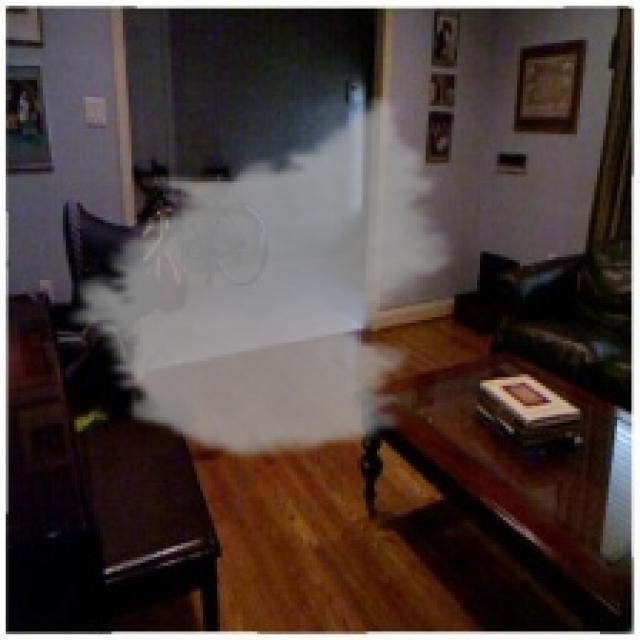smoke: (63, 94, 466, 463)
